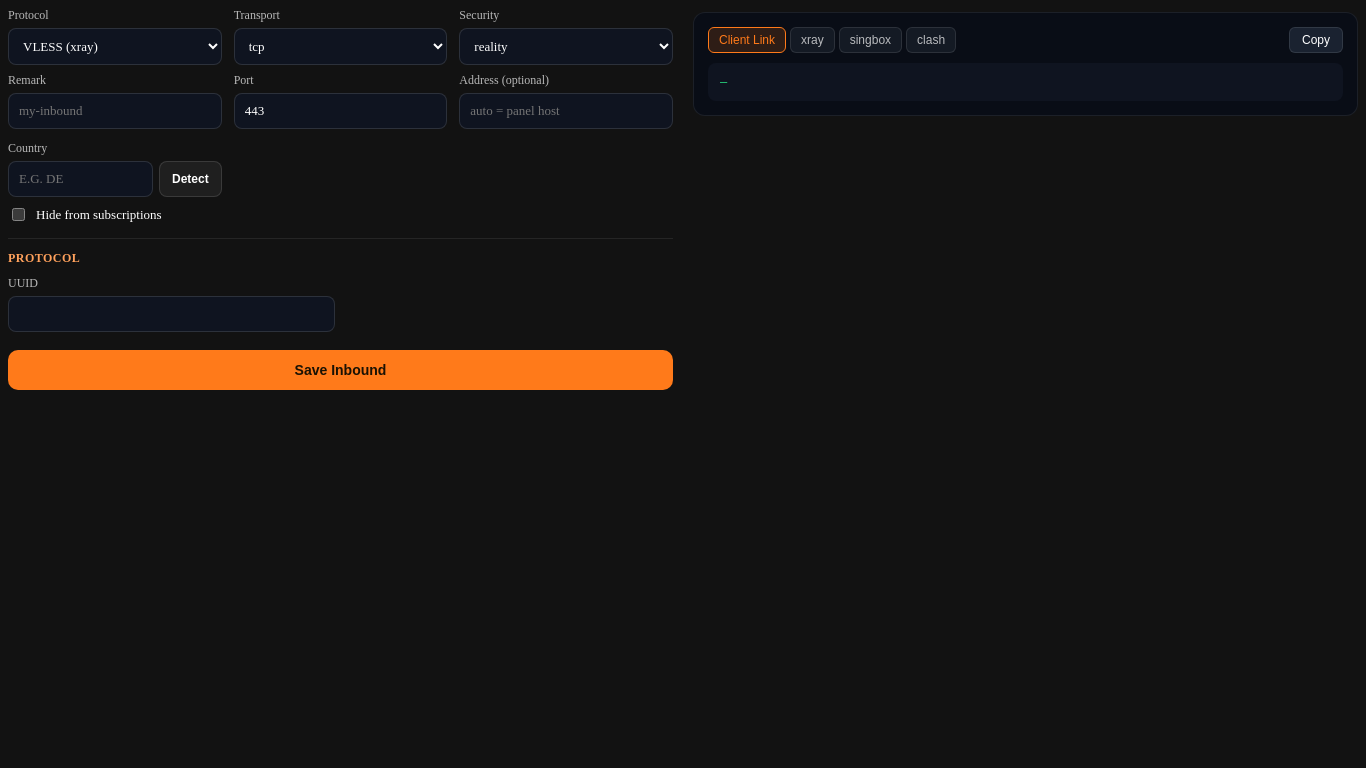
Test: InboundForm protocol switch › says which fields were cleared and which credentials were re-minted
The image size is (1366, 768).
Select "Hysteria2 (sing-box)" in the dropdown with test id "proto-select": (115, 46) left=8, top=28, right=222, bottom=65
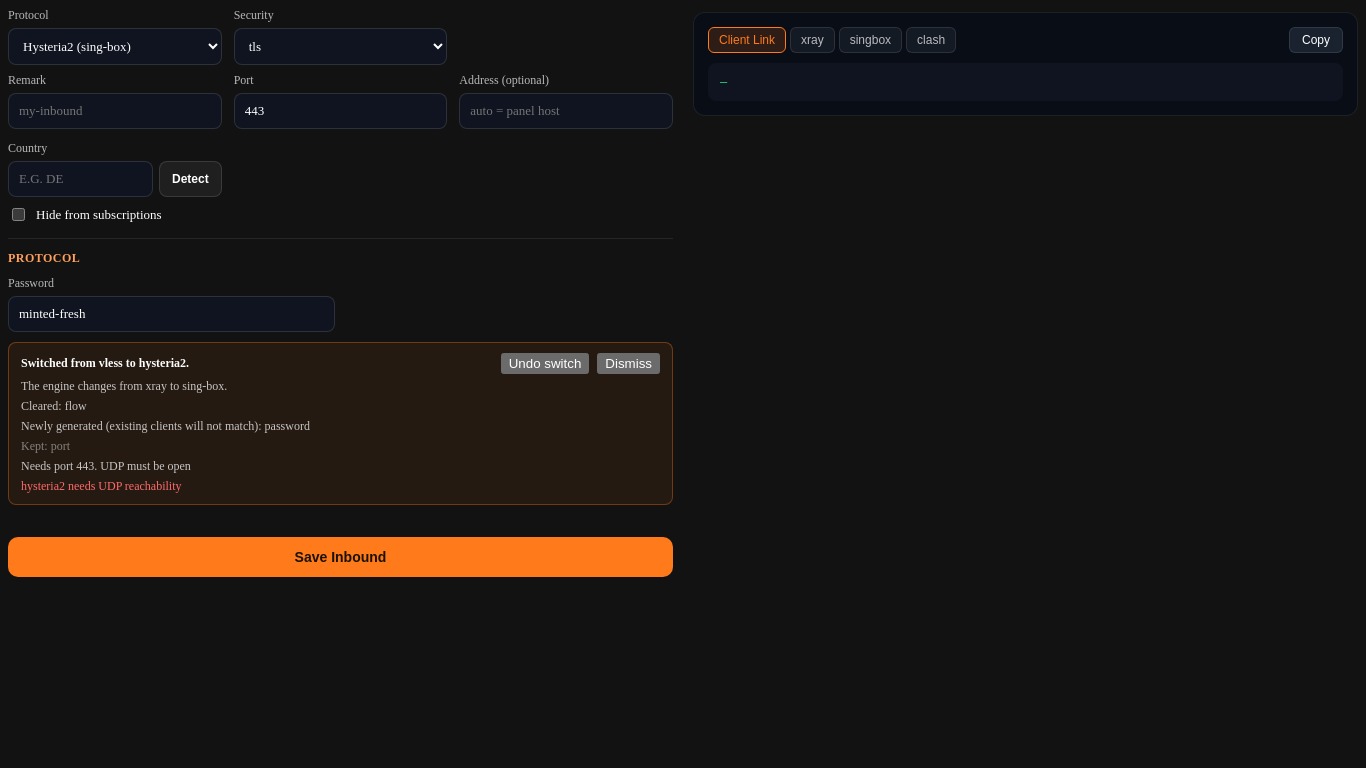
Now the element with test id "switch-summary" is shown, box left=8, top=342, right=673, bottom=505
Now the text with test id "switch-reset" shows "flow", box left=21, top=399, right=87, bottom=413
Now the text with test id "switch-regenerated" shows "password", box left=21, top=419, right=310, bottom=433
